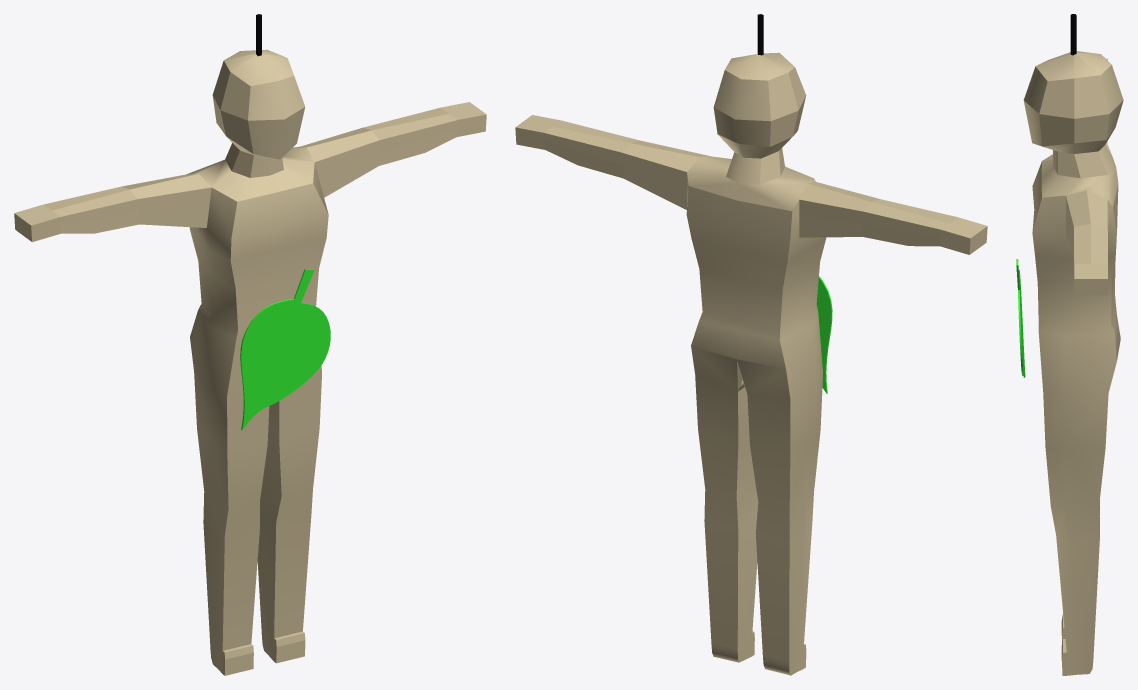
Rendered from people01.FBX.
The picture shows the model from 3 angles, left to right: view 1: azimuth 30°, elevation 25°; view 2: azimuth 150°, elevation 25°; view 3: azimuth 270°, elevation 25°; orthographic projection.
Visible parts, largest first — view 1: 인간옷테스트, 나뭇잎; view 2: 인간옷테스트, 나뭇잎; view 3: 인간옷테스트, 나뭇잎, Cylinder001.
Boxes of the visible parts, left/top/right/bottom form: 인간옷테스트: left=14, top=49, right=486, bottom=675; 나뭇잎: left=240, top=268, right=330, bottom=429; 인간옷테스트: left=515, top=52, right=987, bottom=675; 나뭇잎: left=816, top=276, right=832, bottom=393; 인간옷테스트: left=1023, top=51, right=1123, bottom=675; 나뭇잎: left=1016, top=259, right=1025, bottom=377; Cylinder001: left=1070, top=14, right=1076, bottom=55.
Size of the model in its own units: 146 by 198 by 30.01.
3 materials, 1 textured.
